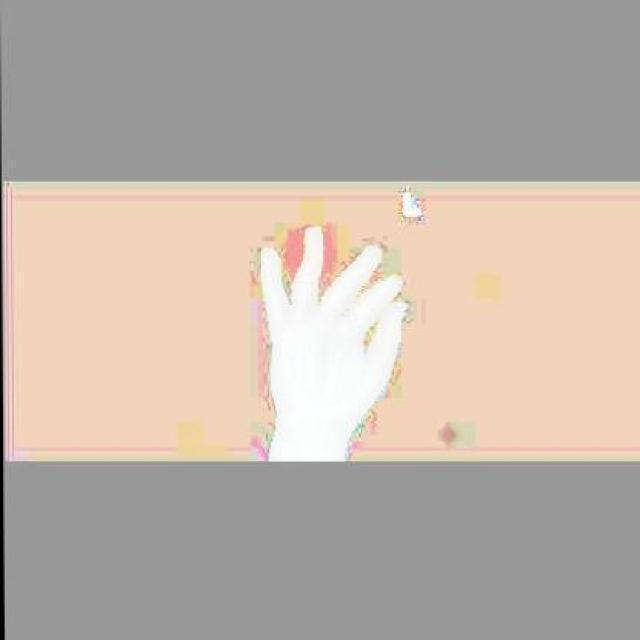Fracture: (302, 242, 321, 264)
